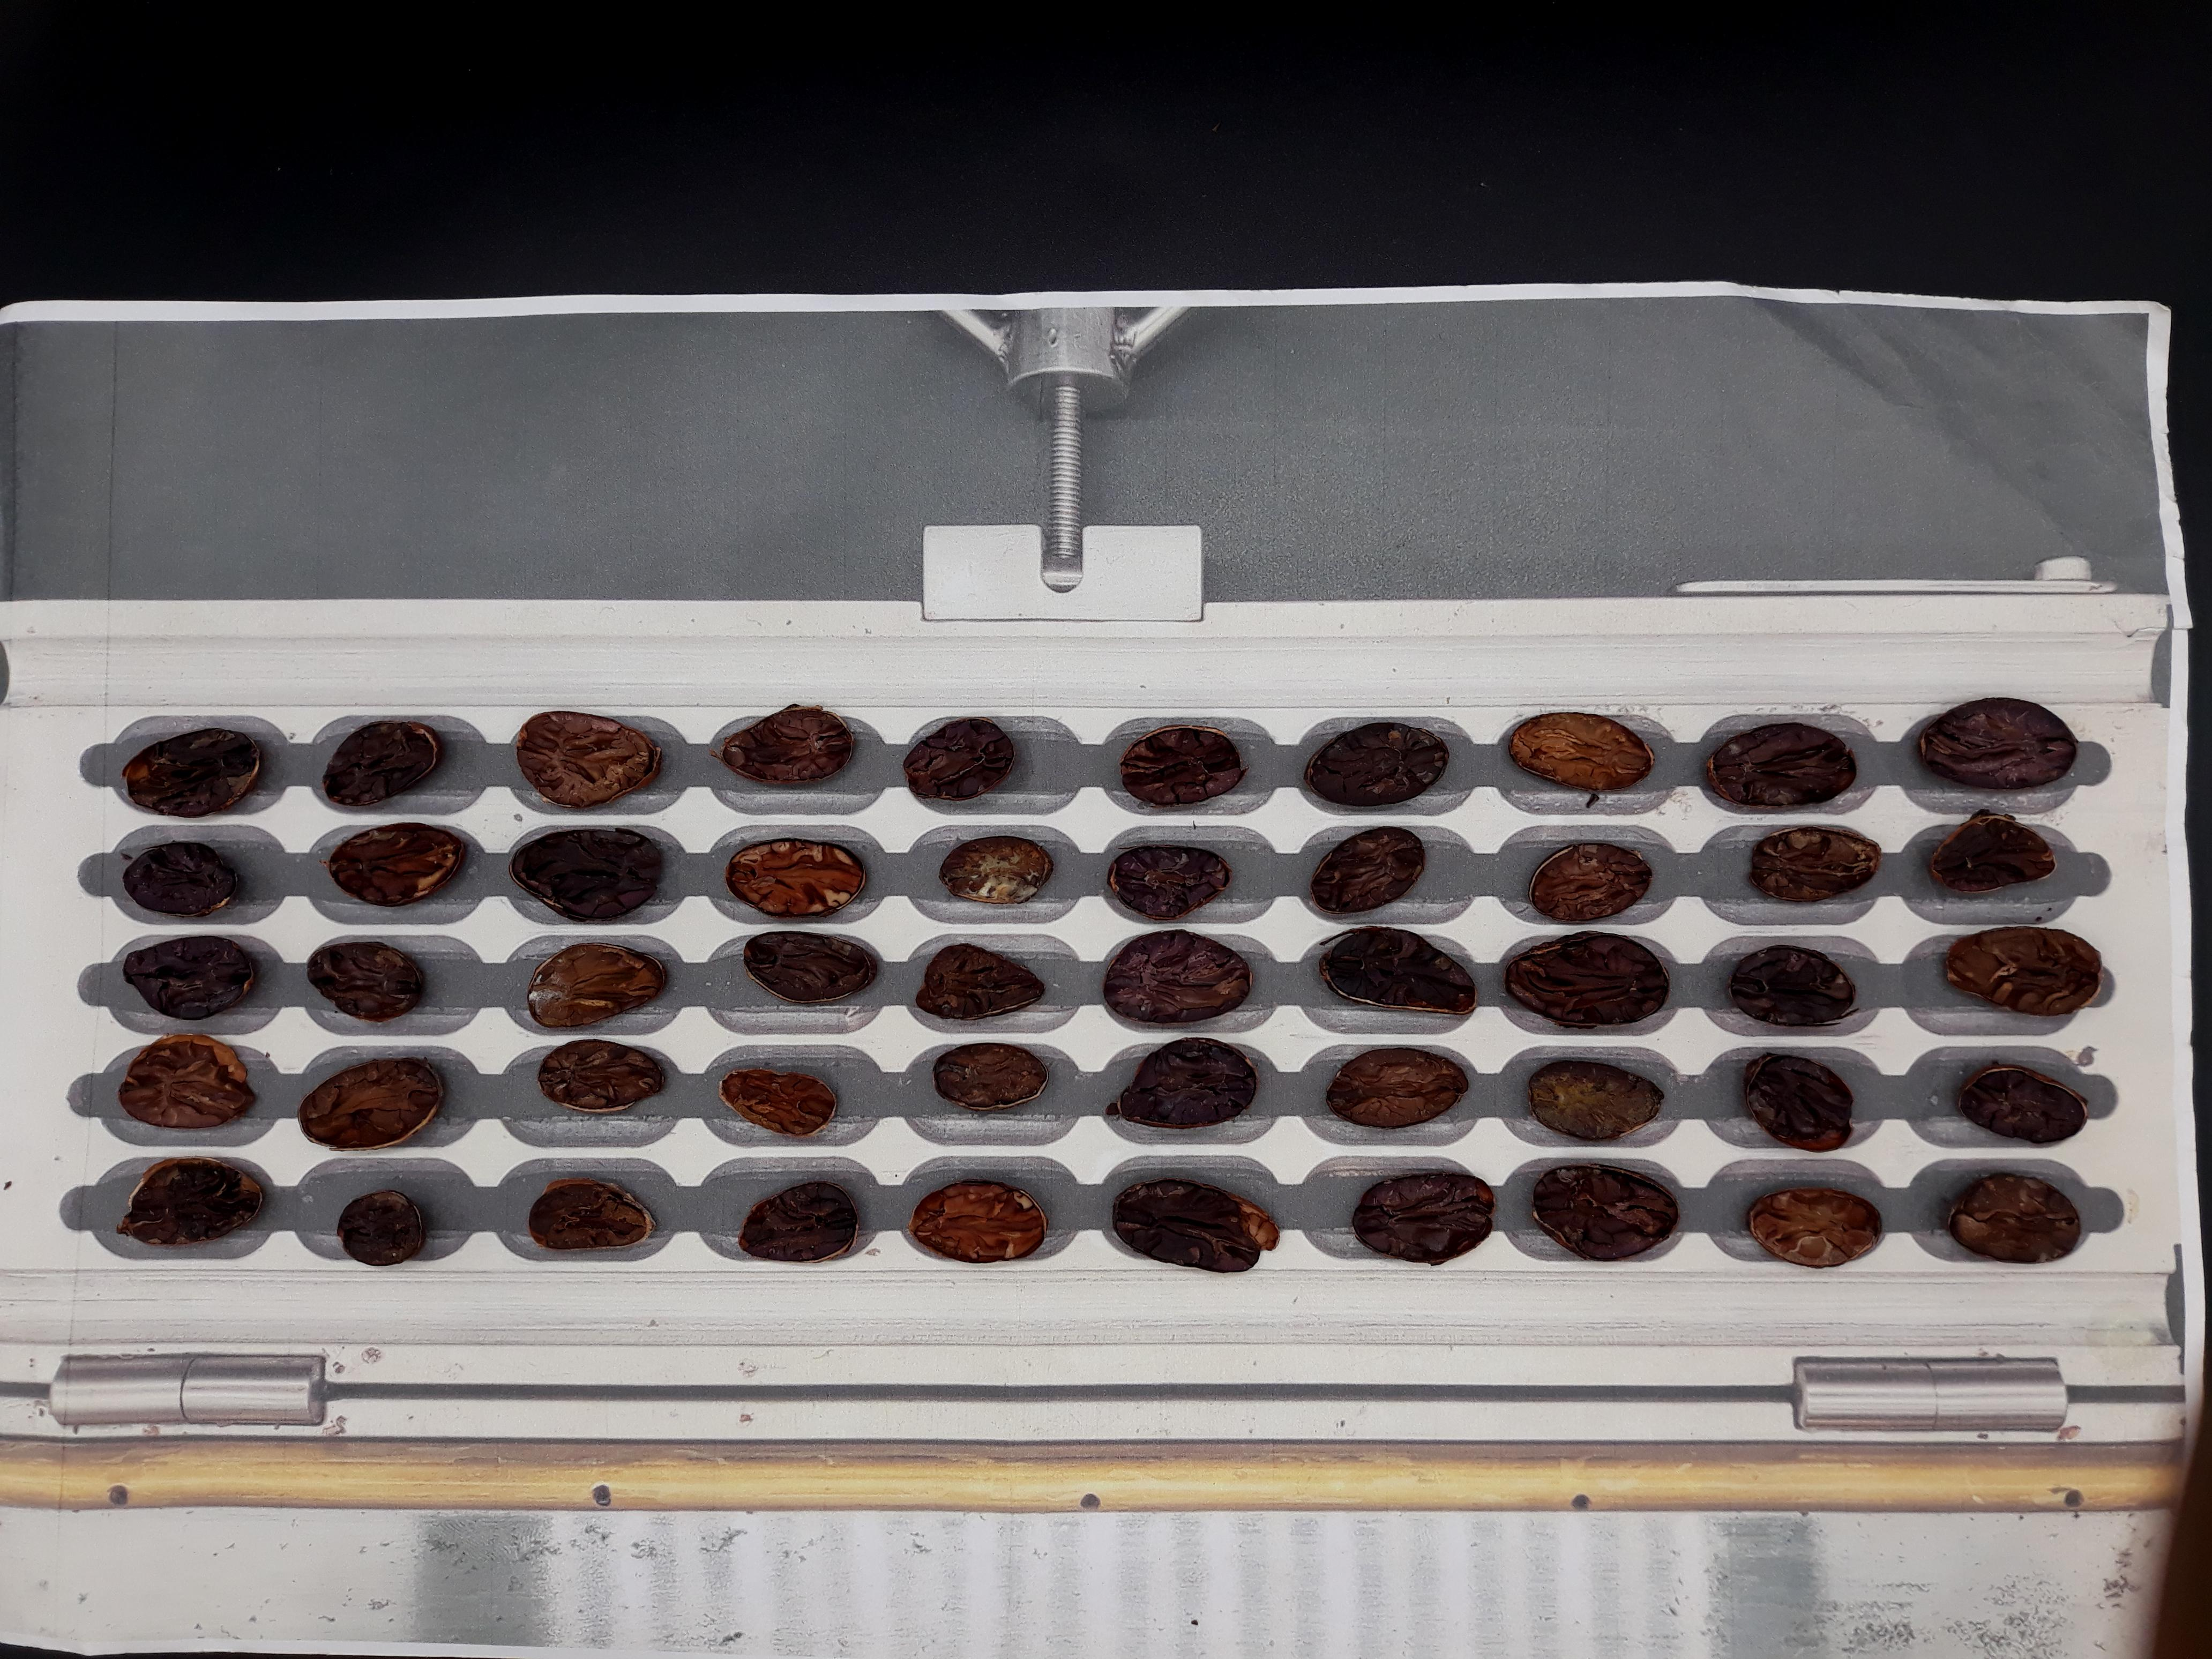Brown - G1: (1860, 460, 1947, 516), (1169, 511, 1251, 566), (1273, 401, 1353, 455), (1562, 579, 1635, 634), (1472, 411, 1548, 462), (1975, 406, 2055, 453), (1980, 584, 2057, 633), (1378, 516, 1451, 558), (1470, 525, 1534, 572)
Brown - G2: (1367, 349, 1451, 406), (2074, 457, 2160, 507), (1465, 345, 1545, 396), (1862, 413, 1944, 460), (1564, 462, 1637, 511)
Brown - G3: (1256, 521, 1346, 577), (2076, 579, 2156, 634), (1764, 514, 1846, 565), (1371, 577, 1444, 633), (1857, 350, 1942, 396)
Brown - G4: (1569, 511, 1639, 558)
Insect-damaged: (1871, 523, 1946, 570)
Mouldy: (1372, 465, 1449, 512), (1575, 410, 1642, 455)
Partly Purple - G1: (1364, 408, 1453, 460), (1667, 355, 1738, 404)
Partly Purple - G2: (1782, 573, 1860, 634), (1658, 458, 1745, 511), (1763, 457, 1851, 505), (1170, 355, 1251, 408), (1268, 350, 1343, 403), (1961, 355, 2040, 404), (1477, 580, 1548, 633), (1561, 354, 1625, 403)
Total Purple - G2: (1172, 462, 1247, 509), (1658, 411, 1730, 460)
Total Purple - G3: (1656, 511, 1747, 568), (2059, 342, 2153, 396), (2083, 525, 2155, 573), (1169, 413, 1238, 460)
Very Dark Brown - G1: (1663, 580, 1754, 636), (1167, 570, 1252, 622), (1973, 519, 2041, 575)
Very Dark Brown - G2: (1871, 575, 1954, 627), (1752, 406, 1829, 458), (2069, 397, 2135, 450), (1259, 464, 1332, 511), (1972, 467, 2040, 511)
Very Dark Brown - G3: (1754, 350, 1838, 404), (1479, 460, 1555, 502), (1275, 584, 1331, 633)
